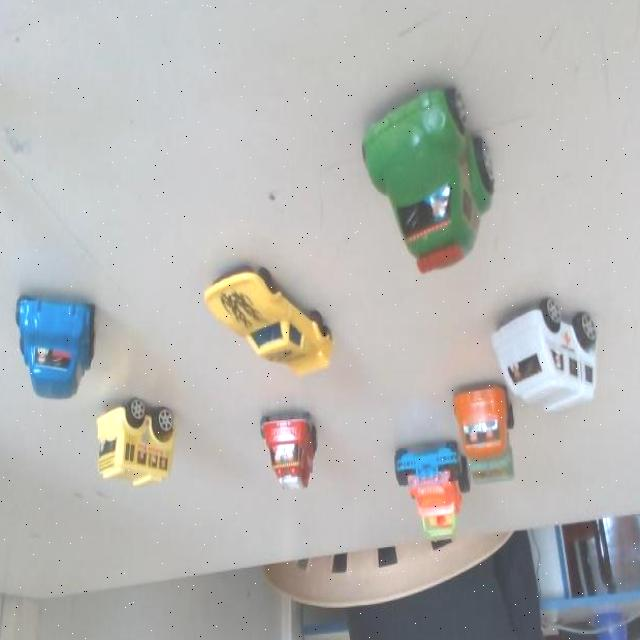car: (365, 100, 505, 266), (483, 279, 606, 430), (202, 257, 340, 383), (385, 444, 466, 546), (100, 389, 185, 486), (15, 296, 94, 398), (453, 380, 518, 494), (259, 397, 330, 499)
